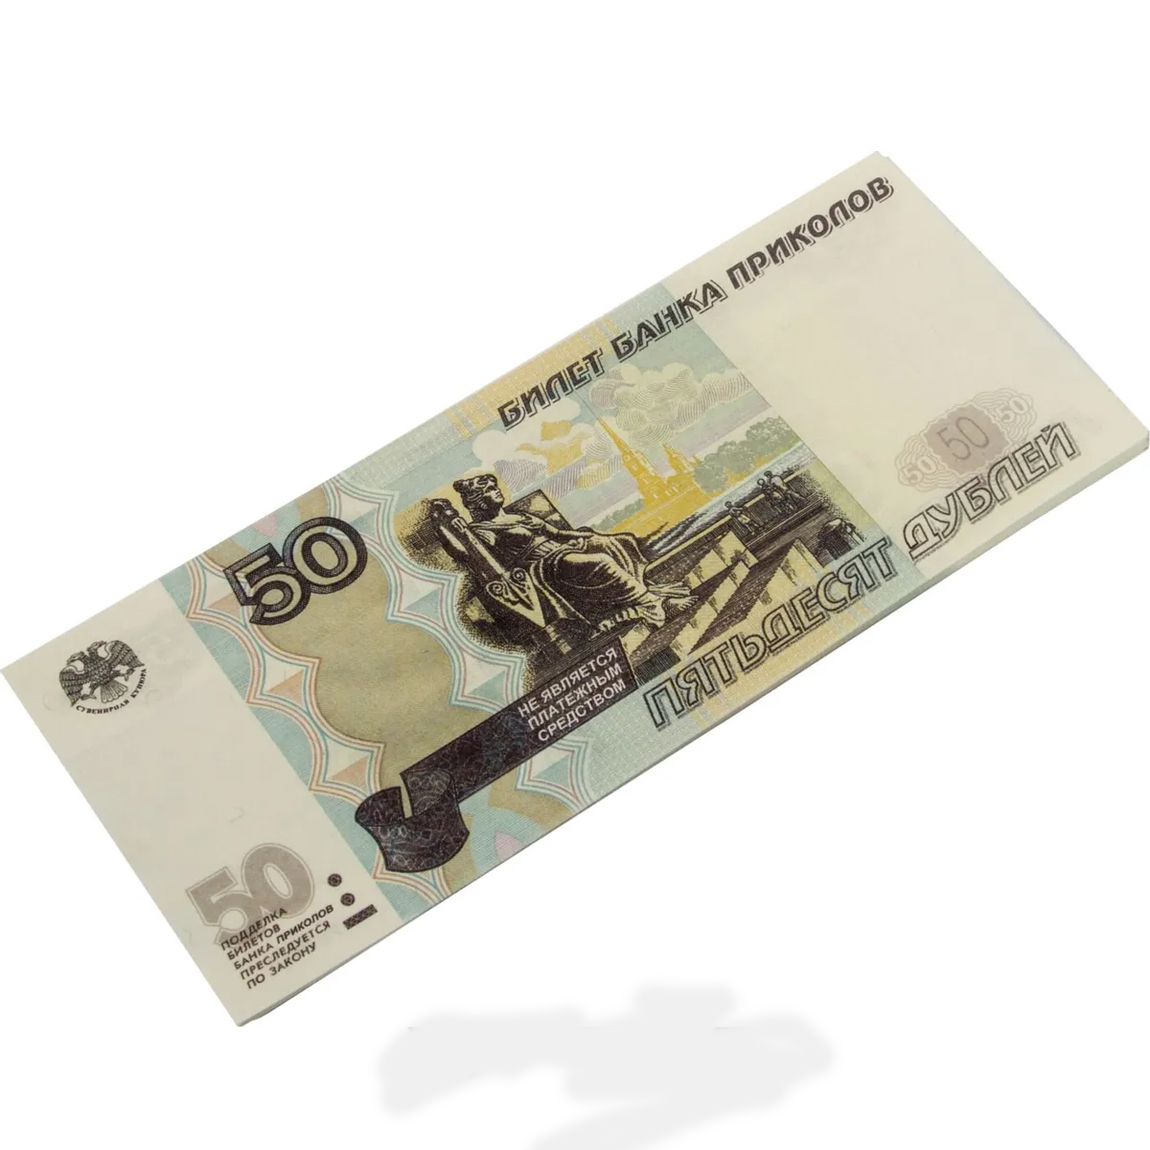cash: (1, 148, 1147, 1027)
